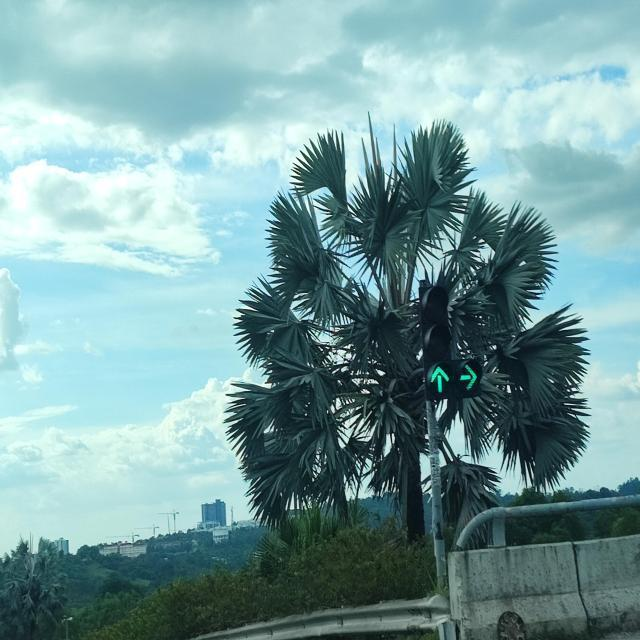green_light: (418, 288, 452, 399), (452, 288, 482, 398)
